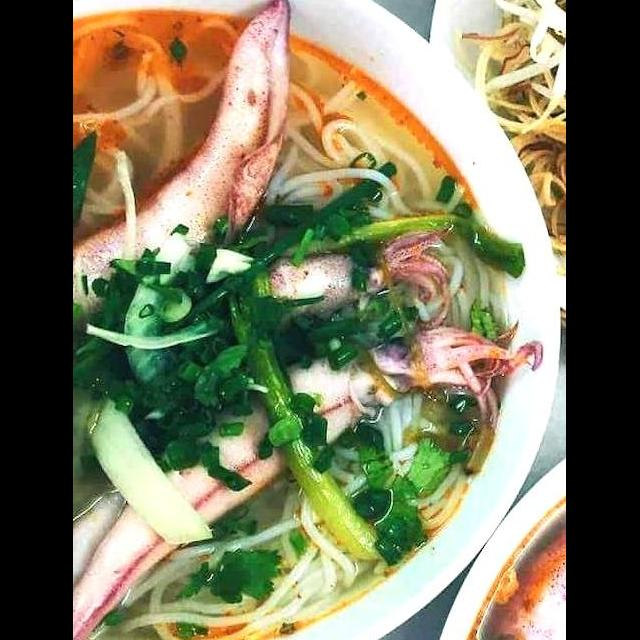bun: (105, 379, 476, 640), (256, 37, 504, 344), (75, 4, 246, 228)
muc: (74, 311, 549, 640), (74, 0, 300, 324), (203, 212, 467, 337), (475, 503, 566, 640)
